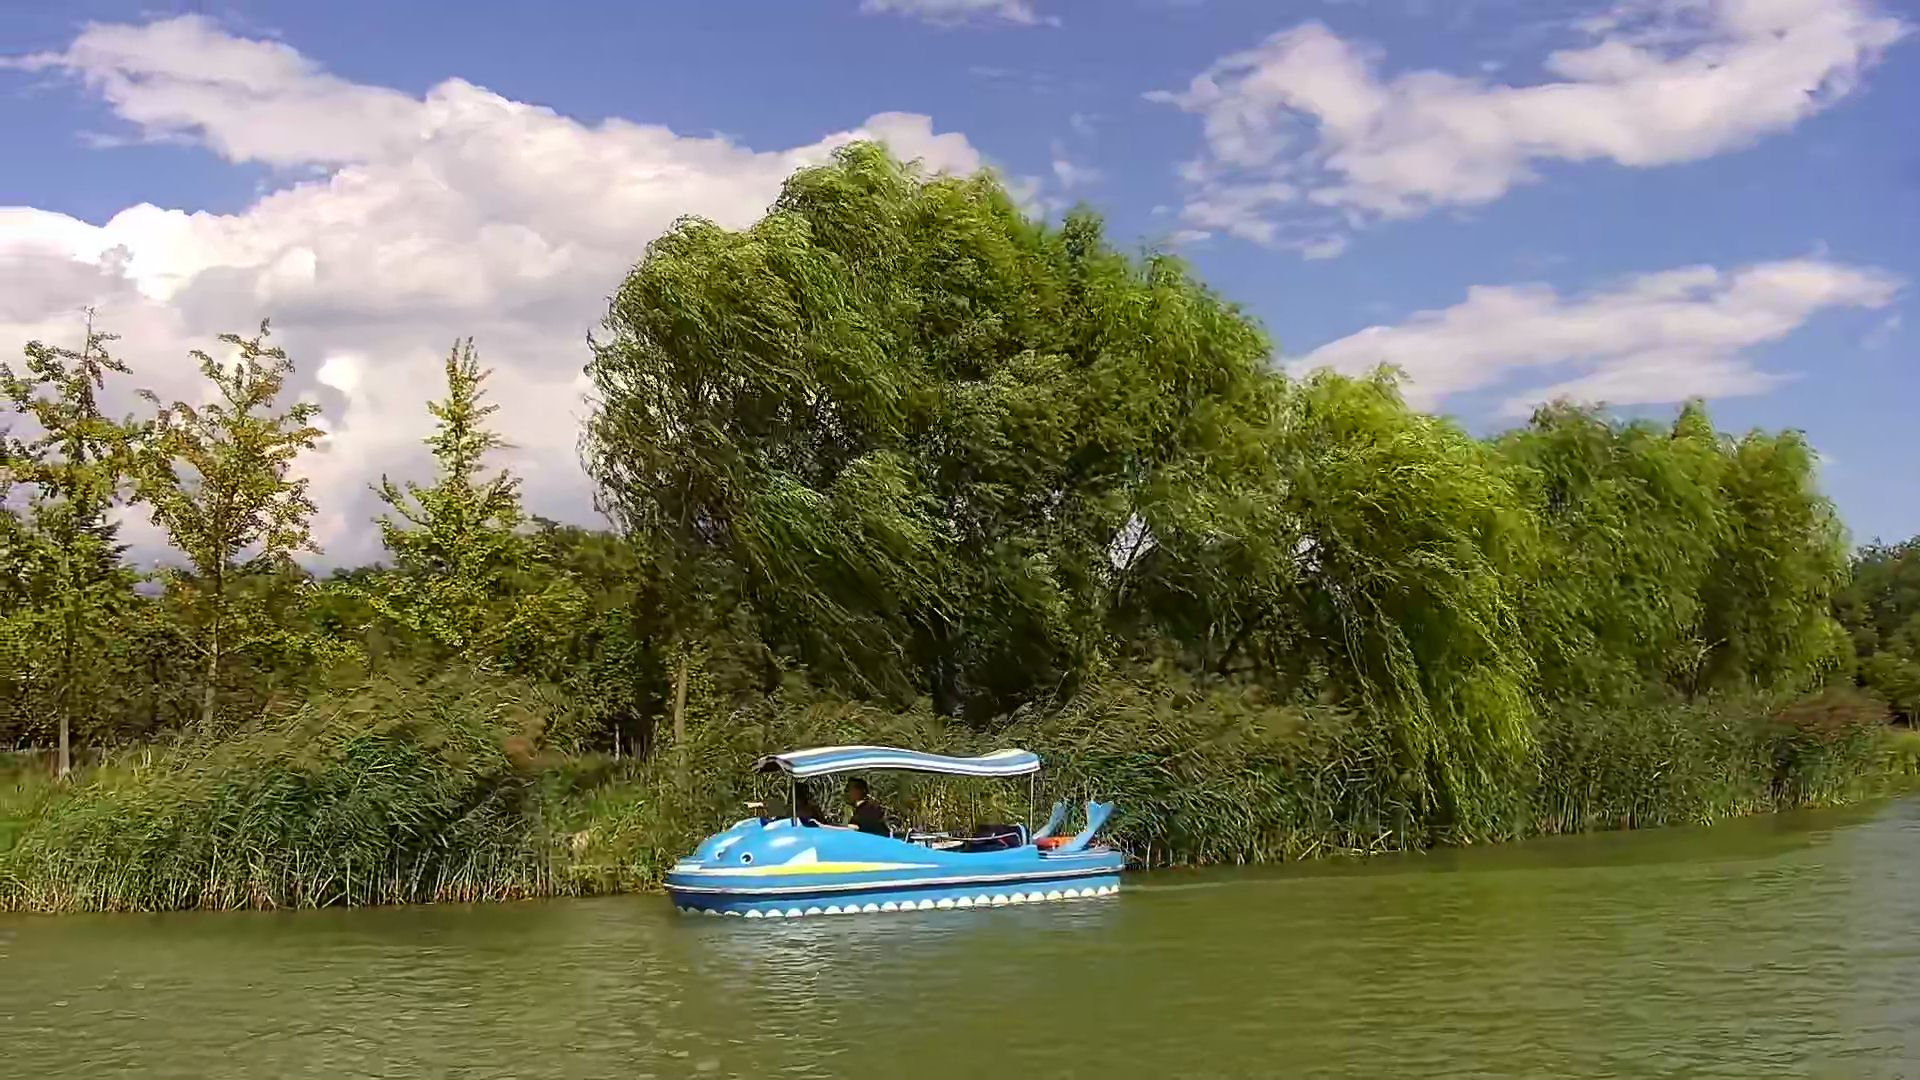person: (829, 779, 893, 837)
rock: (661, 746, 1126, 918)
